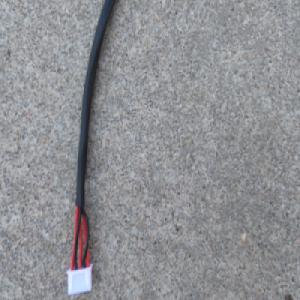Wire: (66, 0, 123, 297)
